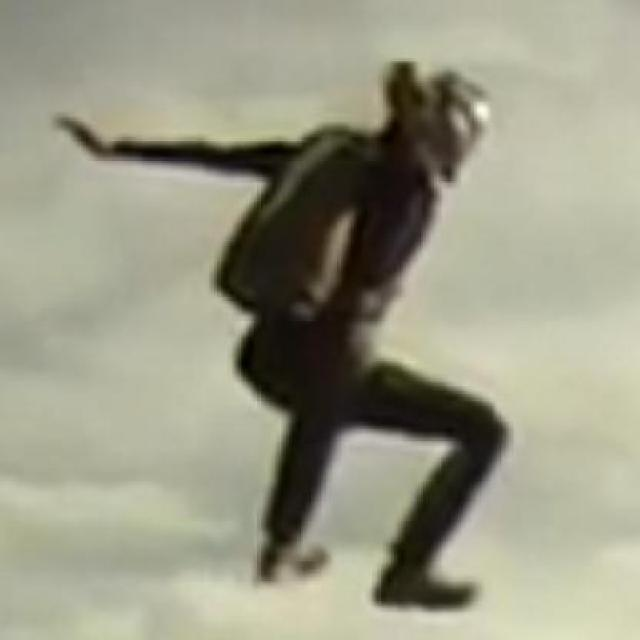fall: (47, 63, 519, 608)
